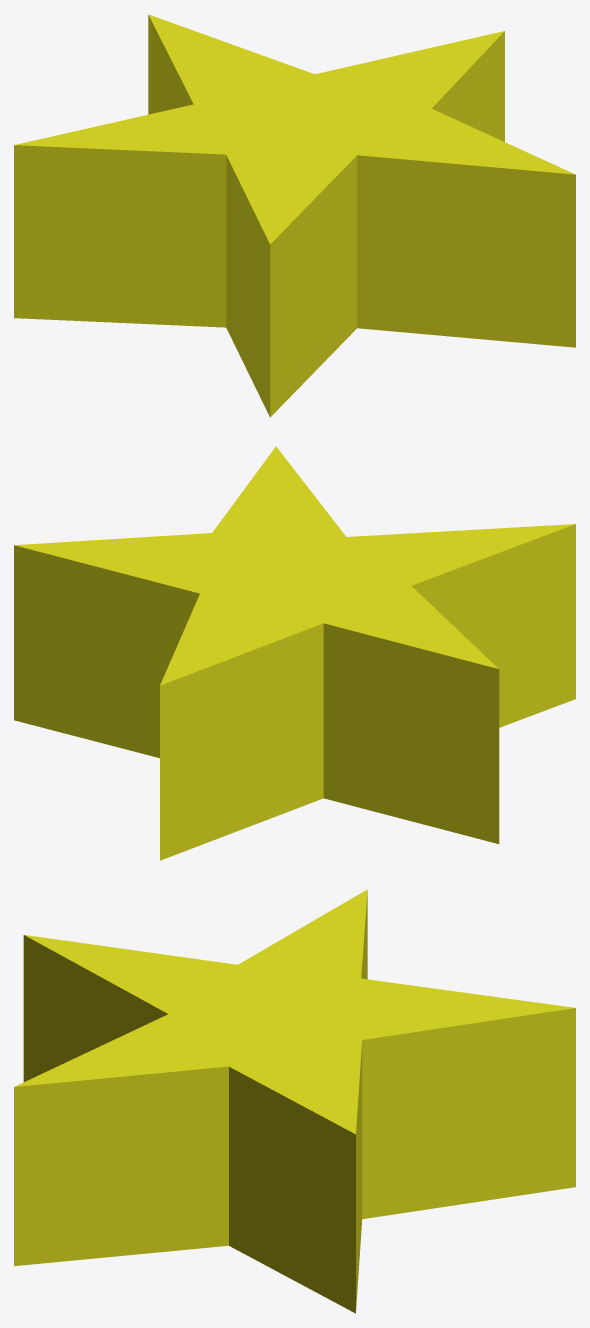
The model's file is starPrev.fbx.
3 views of the same model, one above another, from view 1: azimuth 30°, elevation 25°; view 2: azimuth 150°, elevation 25°; view 3: azimuth 270°, elevation 25° (orthographic). The views are drawn at different scales.
Visible parts, largest first — view 1: star.004; view 2: star.004; view 3: star.004.
Boxes of the visible parts, box(x1,y1,x2,y2) form: star.004: box(14, 14, 575, 417); star.004: box(14, 446, 575, 860); star.004: box(14, 889, 575, 1313).
Bounding box in the file's own units: 176 × 60 × 171.
